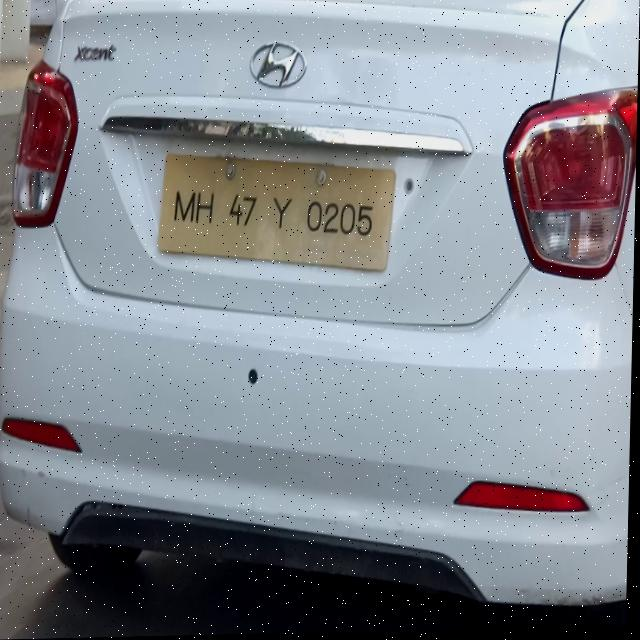plate: (159, 150, 398, 278)
